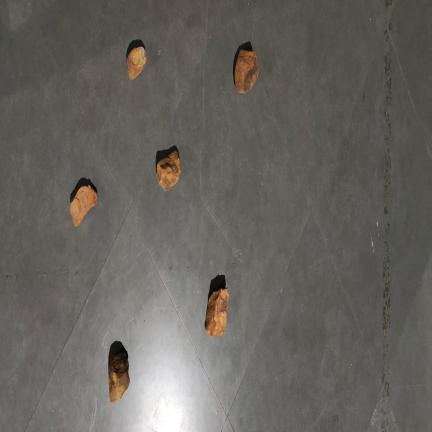Rocks: (205, 288, 229, 336), (71, 186, 97, 226), (235, 50, 258, 93), (109, 353, 129, 402), (157, 150, 180, 191), (127, 47, 146, 79)
